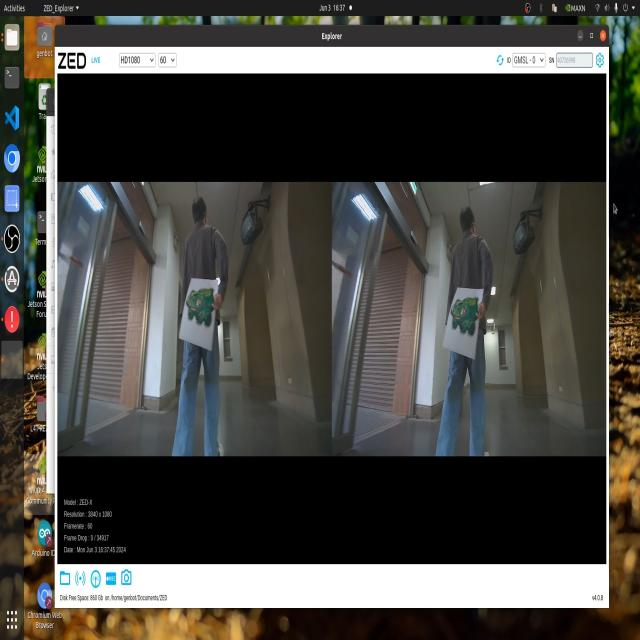green: (178, 278, 219, 326), (447, 293, 482, 338)
